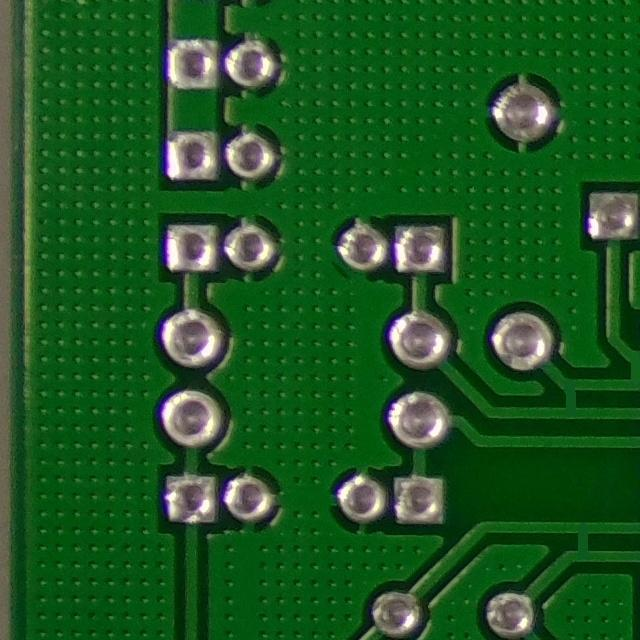short: (541, 363, 597, 426), (559, 511, 602, 569), (615, 347, 640, 389)
